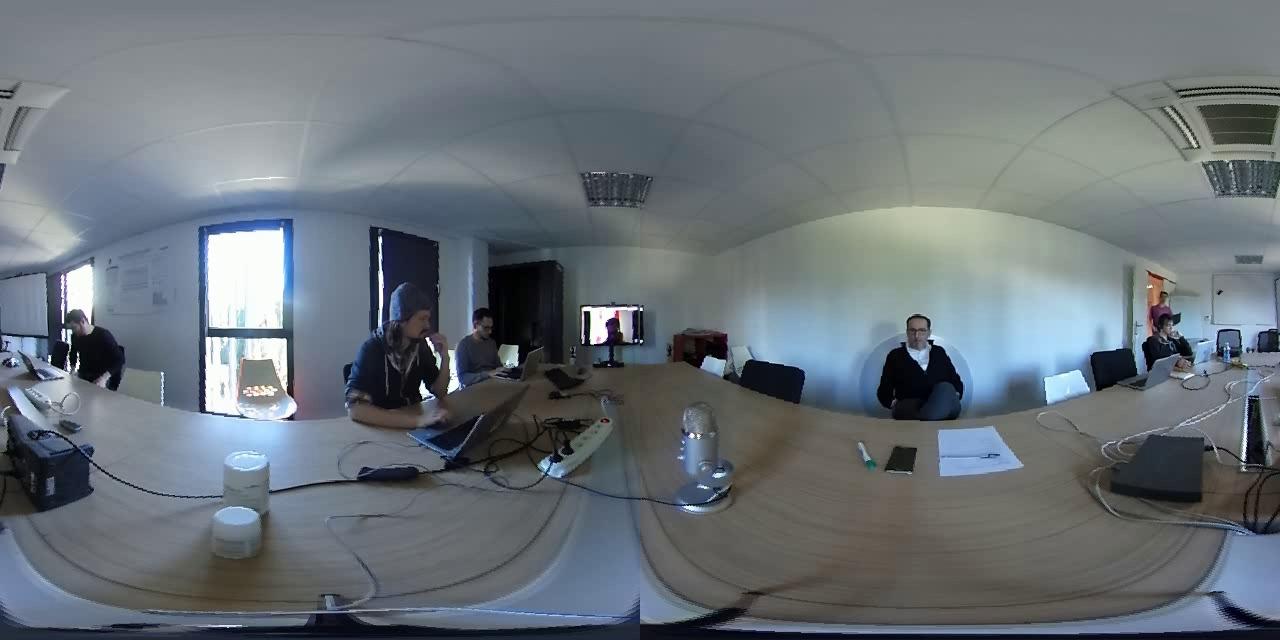person: (344, 279, 450, 424), (876, 304, 968, 419), (58, 301, 129, 386), (456, 297, 511, 383), (1134, 319, 1198, 358), (591, 309, 638, 341), (1144, 280, 1183, 316)
